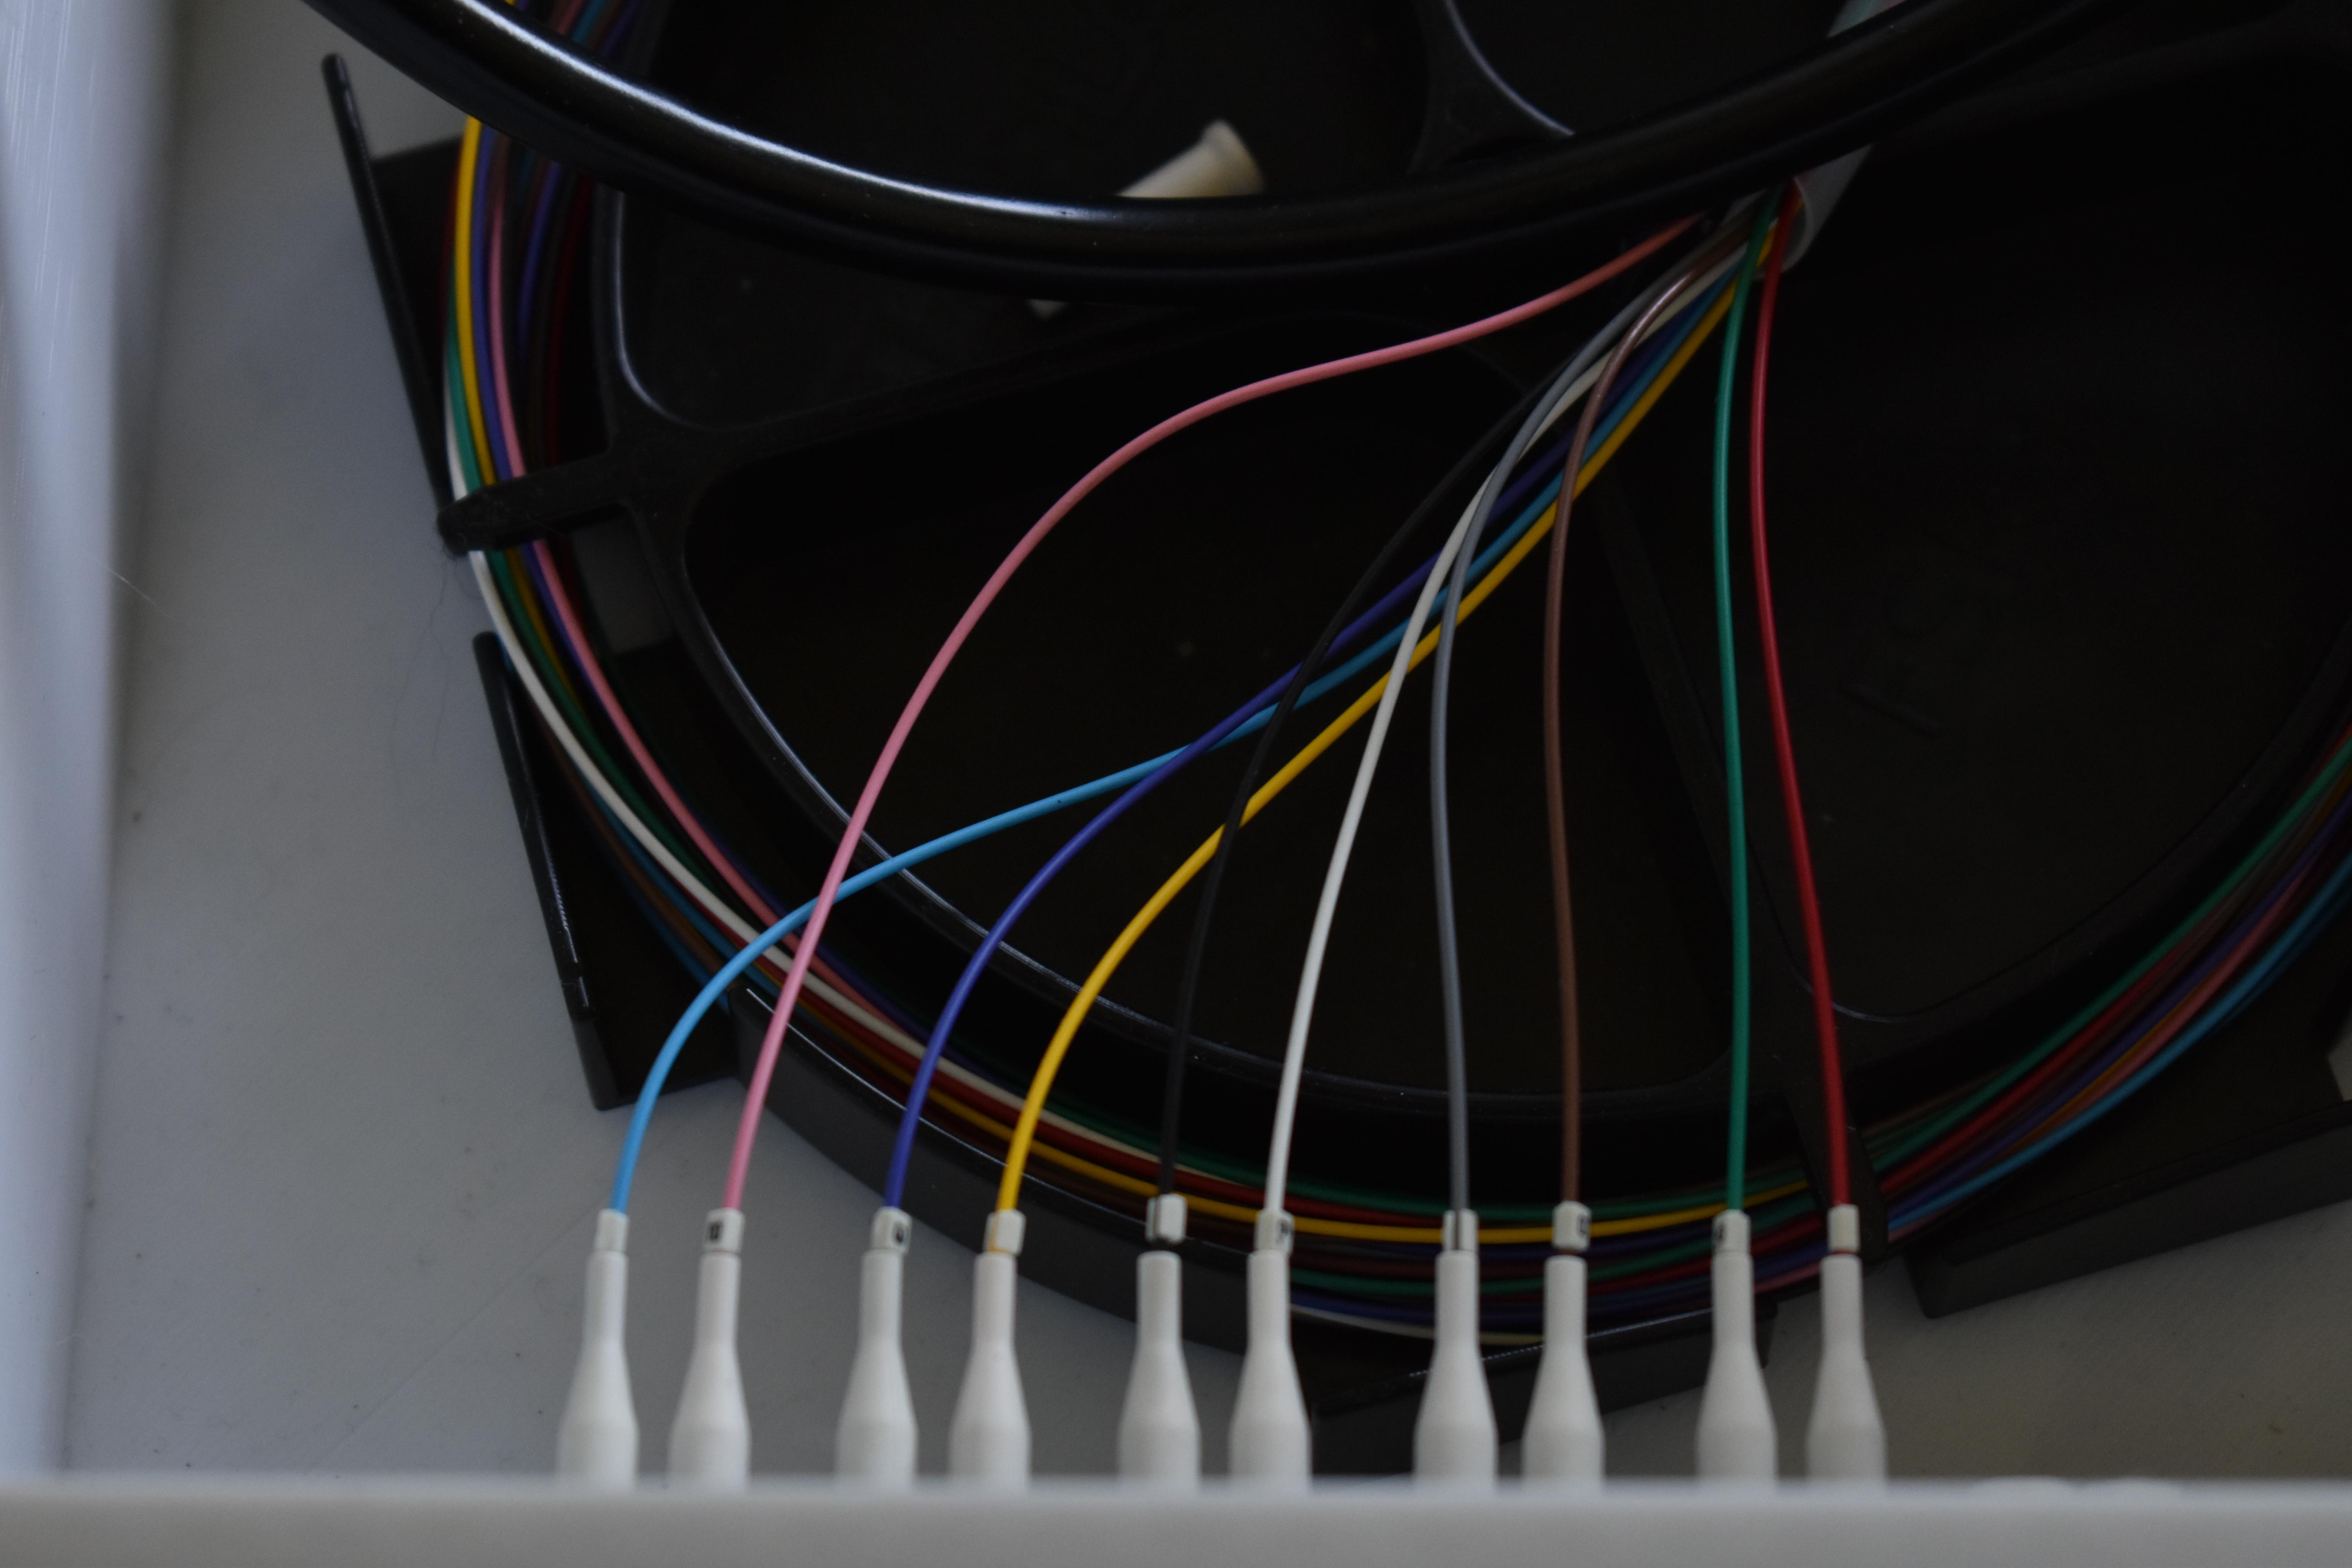fiber_cable: (558, 170, 1897, 1493)
